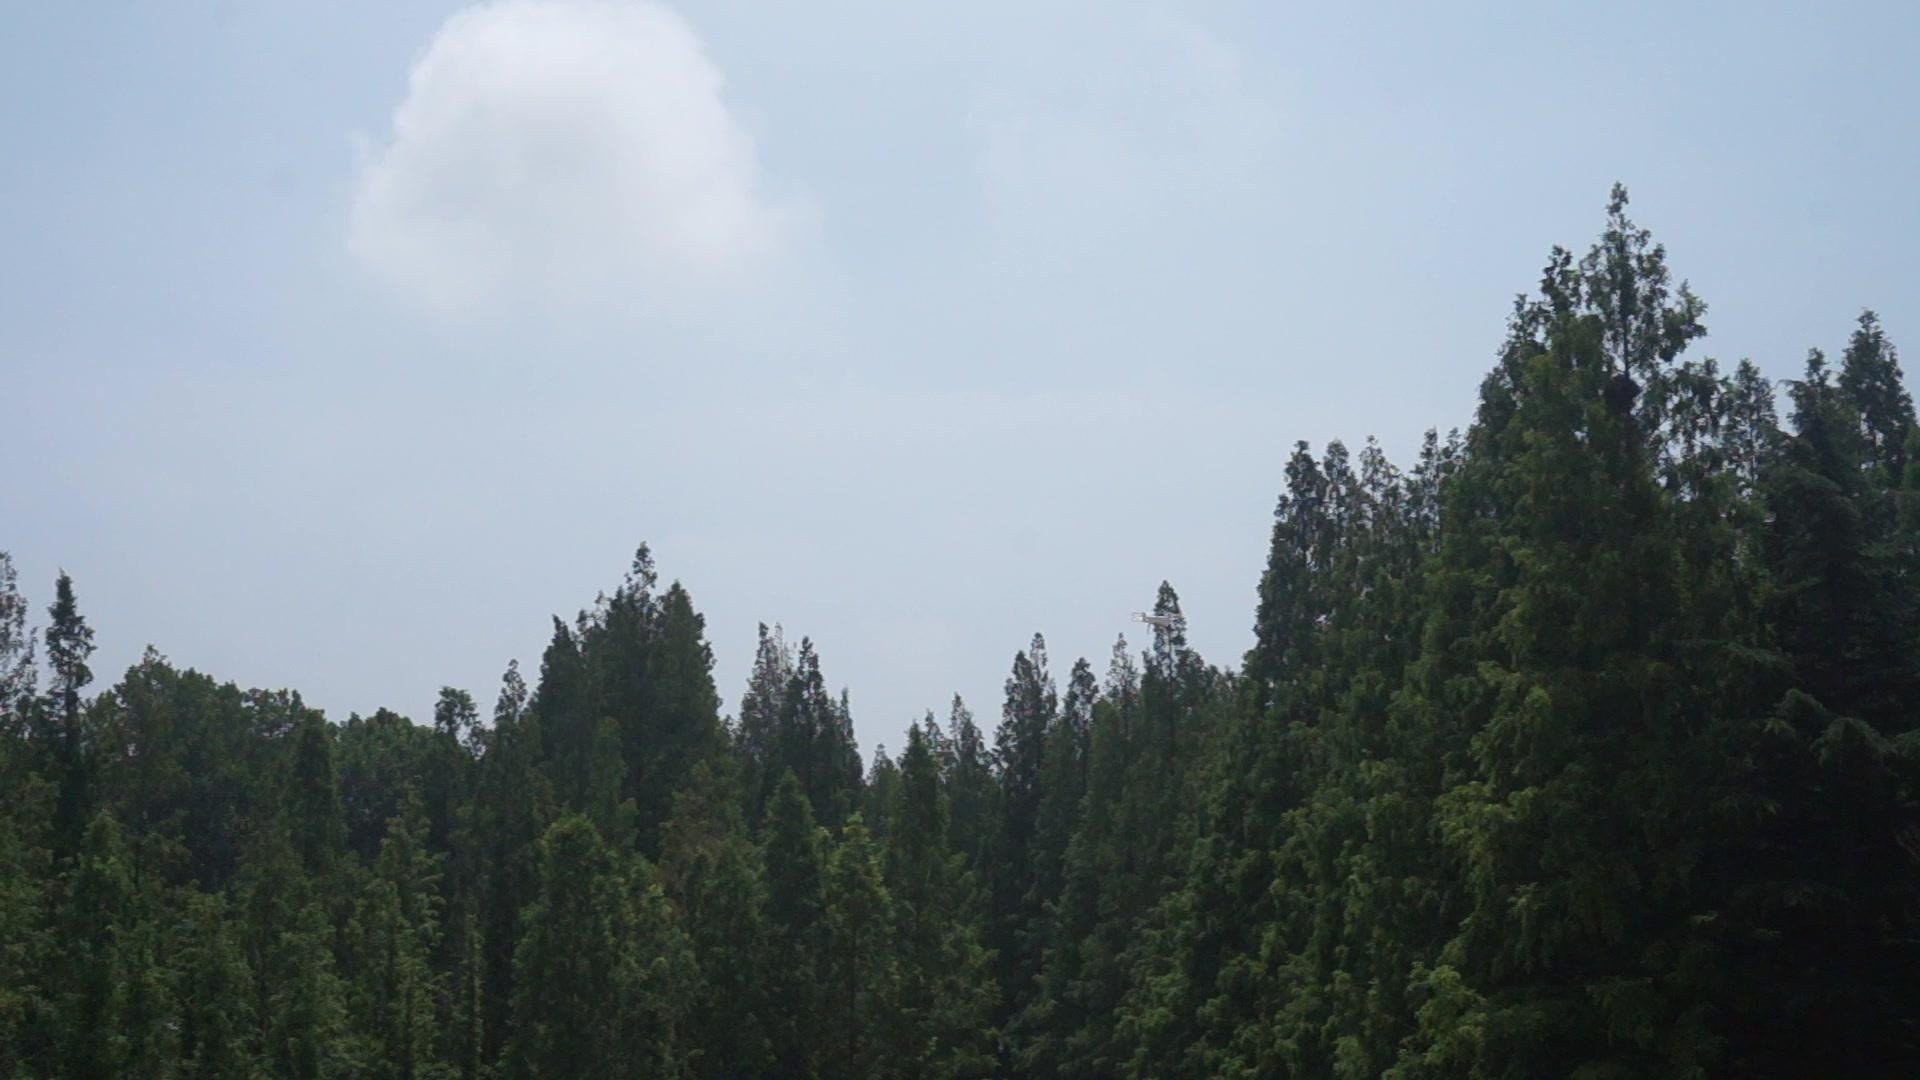UAV: (1131, 612, 1180, 636)
